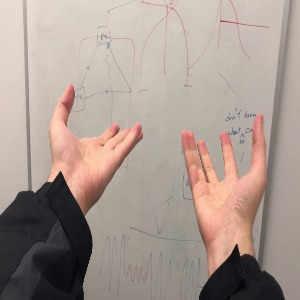hand: (49, 82, 144, 183), (182, 113, 268, 217)
